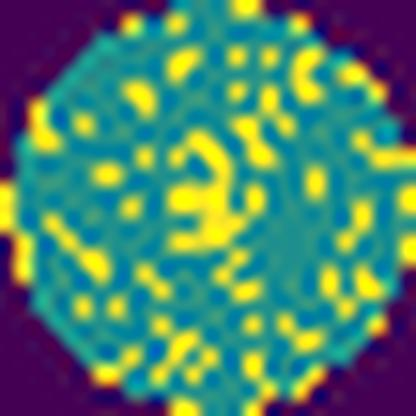Center: (164, 126, 266, 256)
